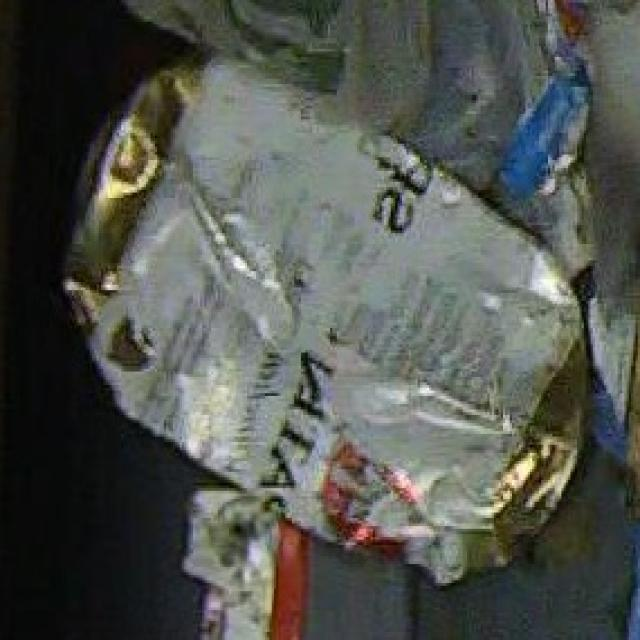can: (46, 46, 585, 591)
